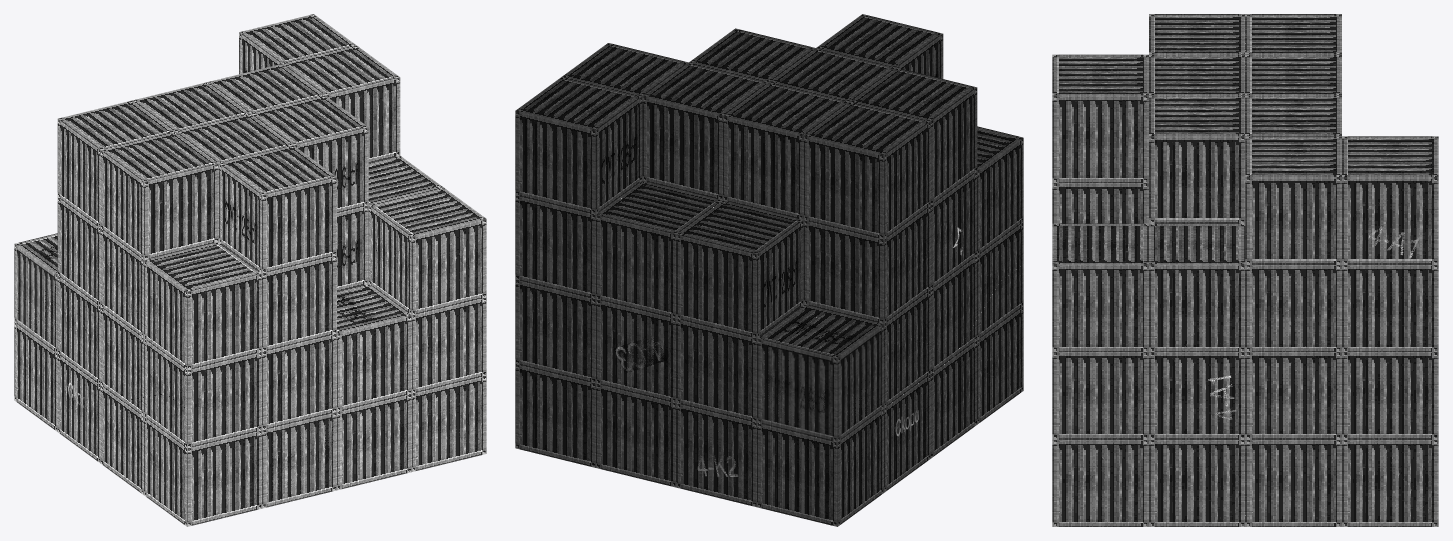
Rendered from Pboxes4x4Z.obj.
3 views of the same model, side by side, from view 1: azimuth 30°, elevation 25°; view 2: azimuth 150°, elevation 25°; view 3: azimuth 270°, elevation 25° (orthographic). The views are drawn at different scales.
Size of the model in its own units: 2800 by 2800 by 2800.
8 materials, 8 textured.
